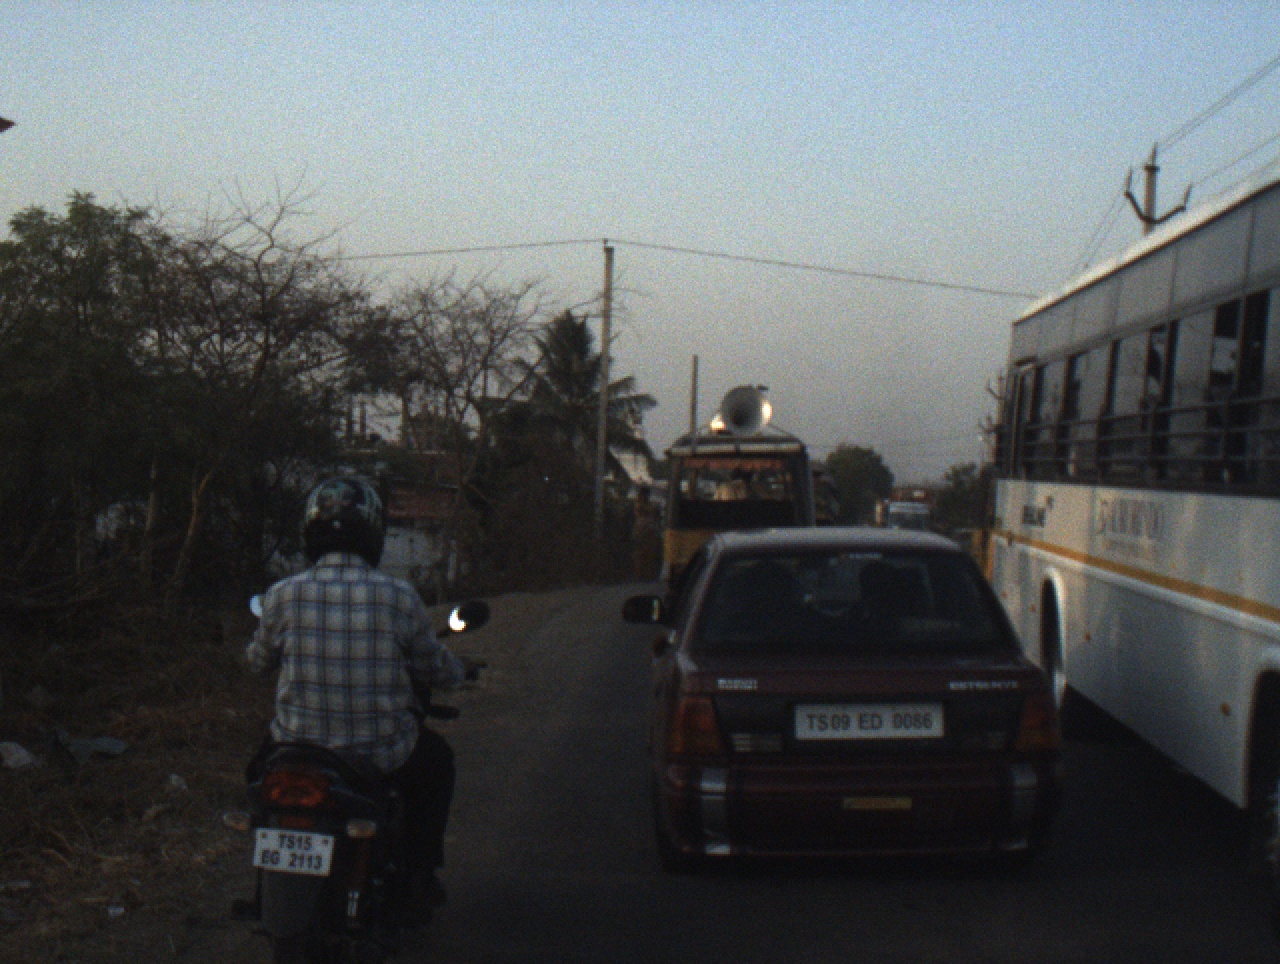autorickshaw: (647, 384, 818, 596)
bus: (975, 157, 1277, 885)
car: (617, 525, 1062, 889)
motorcycle: (218, 580, 491, 963)
person: (622, 481, 668, 592)
rider: (237, 471, 460, 927)
truck: (872, 480, 933, 535)
vehicle fallback: (808, 466, 843, 533)
